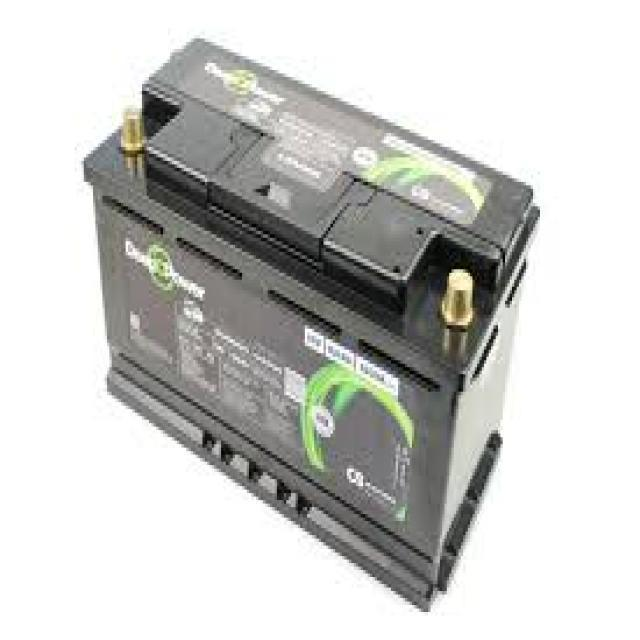Battery: (60, 0, 559, 640)
